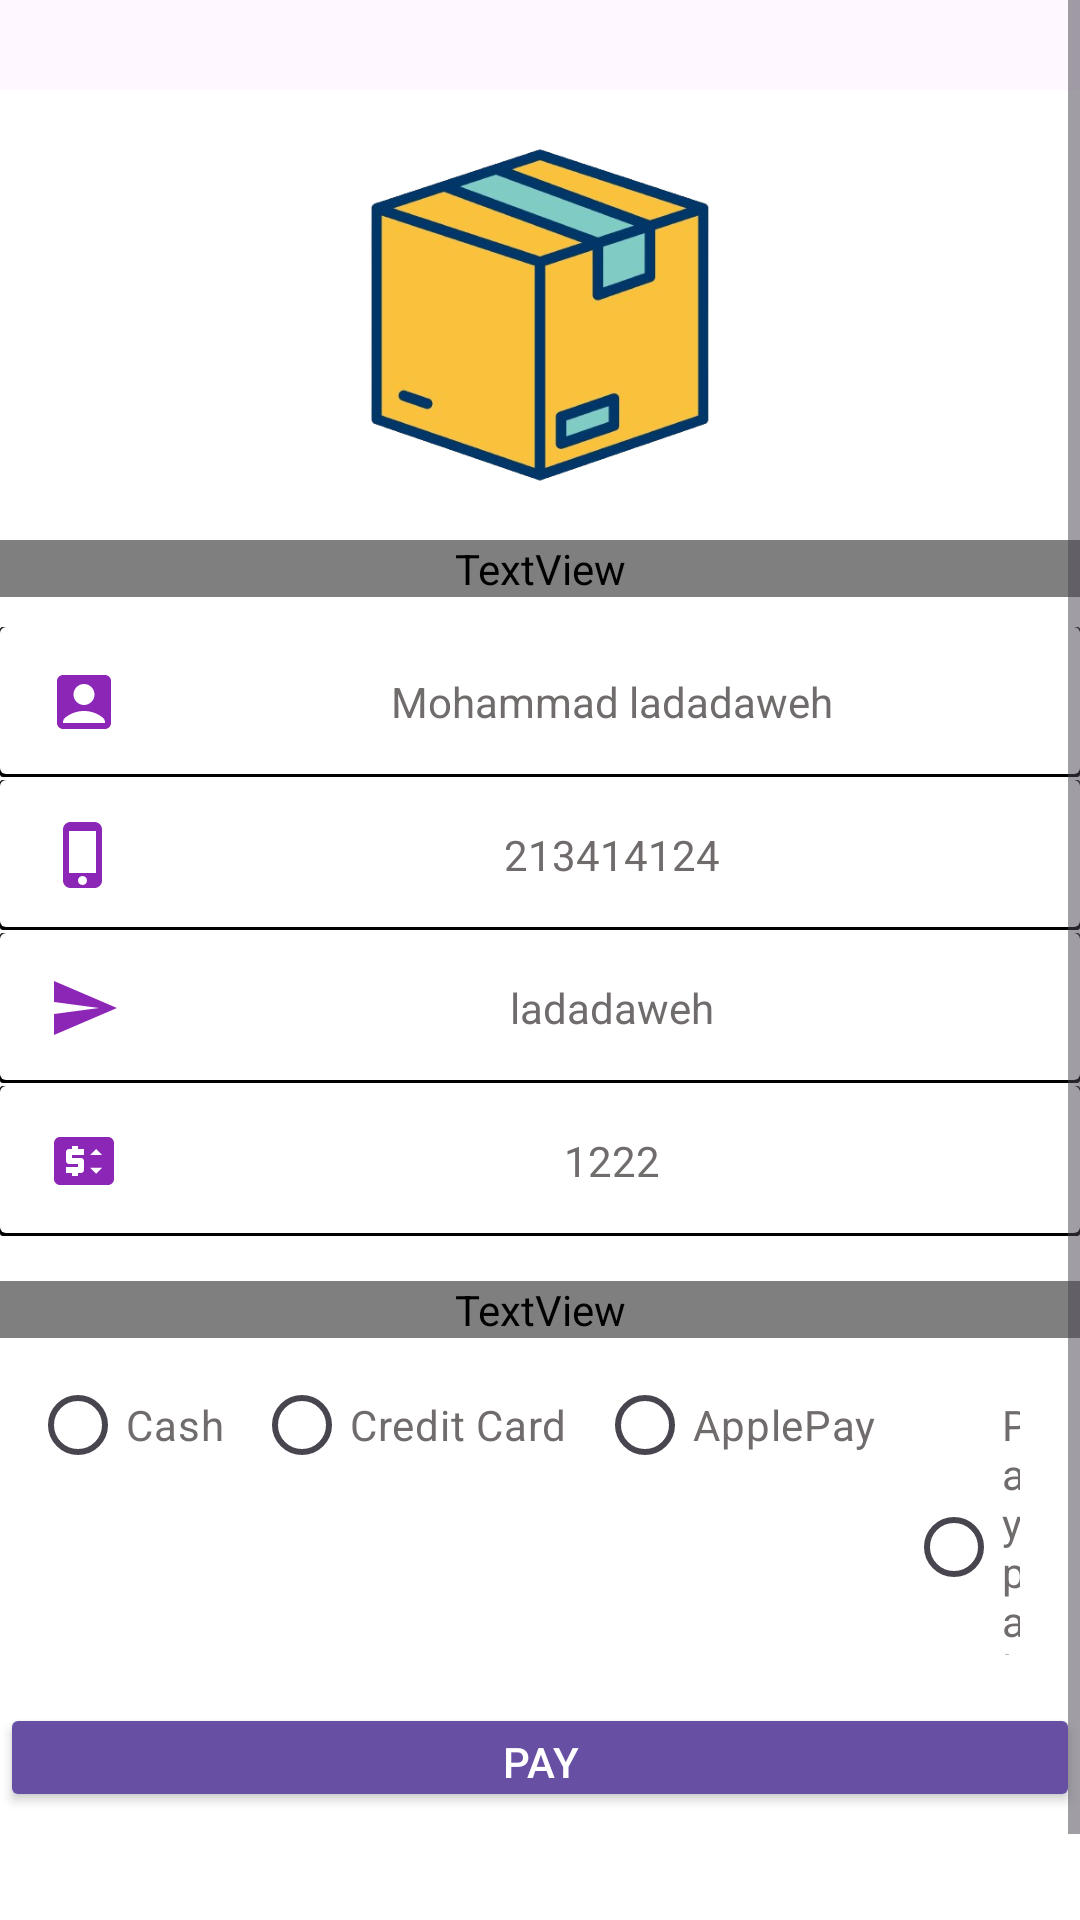

Locate icon controls on the screen. Image size 1080x1920, boxes as bbox=[x1, y1, x2, y2].
box: bbox=[371, 149, 709, 481]
